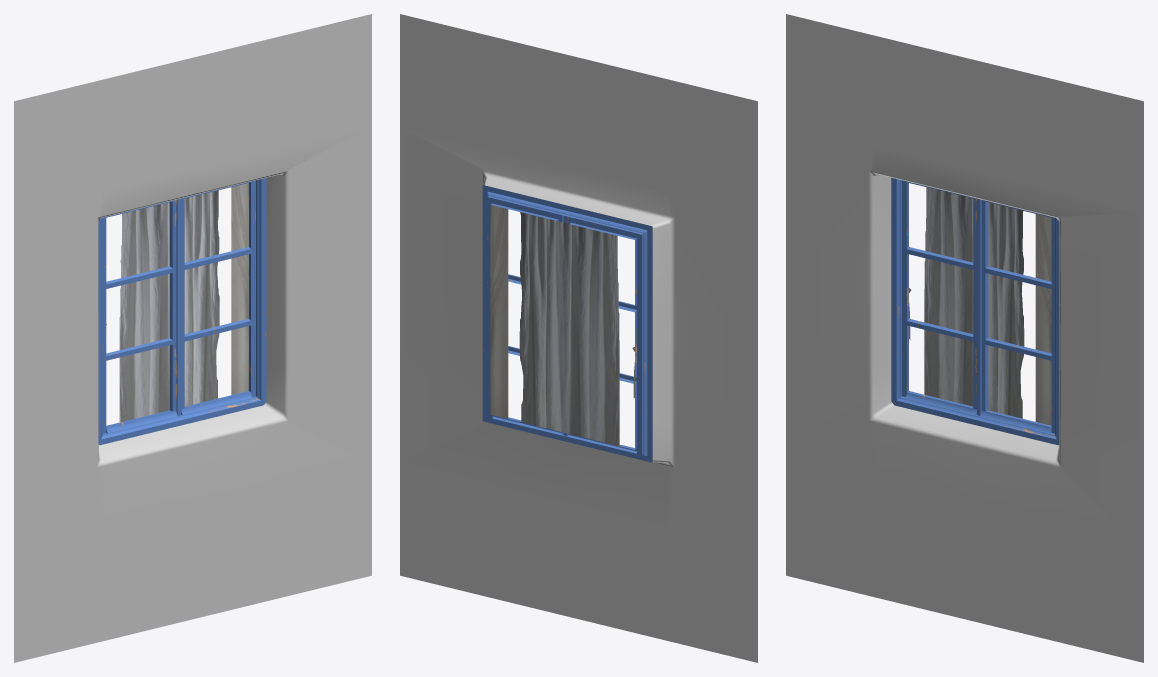
Rendered from WallLargeWindow.fbx.
The picture shows the model from 3 angles, left to right: view 1: azimuth 30°, elevation 25°; view 2: azimuth 150°, elevation 25°; view 3: azimuth 330°, elevation 25°; orthographic projection.
Parts seen in each view (by area): view 1: WallLargeWindow; view 2: WallLargeWindow; view 3: WallLargeWindow.
Part boxes in pixels (left/top/right/bottom): WallLargeWindow: left=14, top=14, right=371, bottom=662; WallLargeWindow: left=400, top=14, right=757, bottom=662; WallLargeWindow: left=786, top=14, right=1143, bottom=662.
Bounding box in the file's own units: 200 × 300 × 15.73.
Materials: 3 (2 with a texture image).
